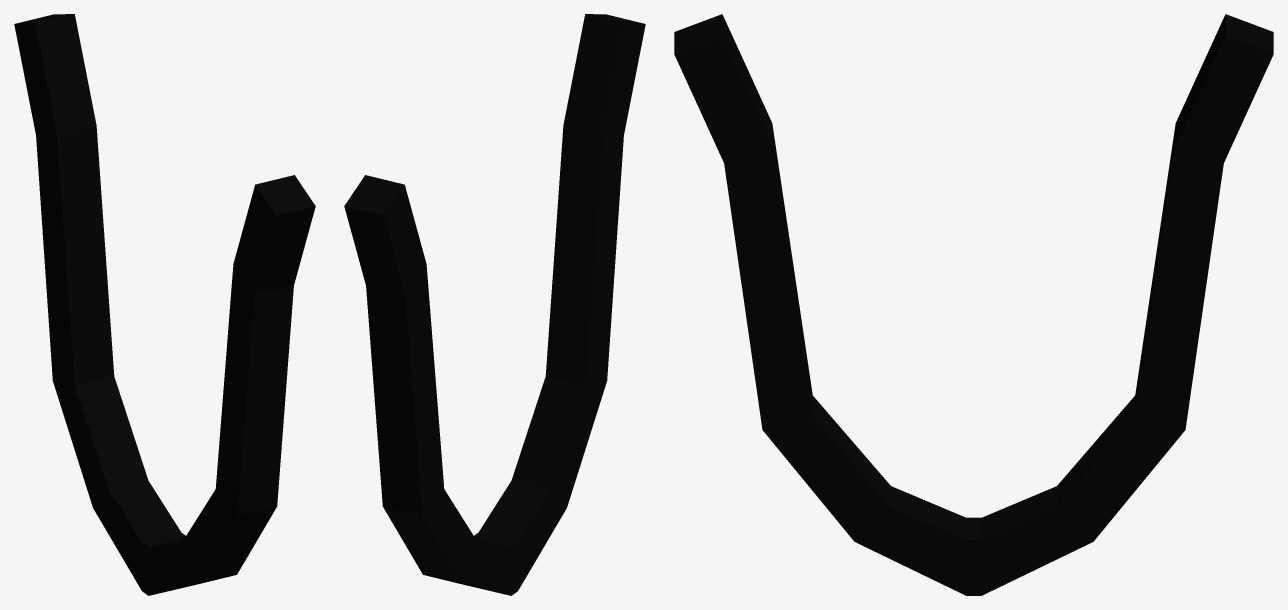
The model's file is cable_tilted.obj.
3 views of the same model, side by side, from view 1: azimuth 30°, elevation 25°; view 2: azimuth 150°, elevation 25°; view 3: azimuth 270°, elevation 25° (orthographic). The views are drawn at different scales.
Visible parts, largest first — view 1: mesh; view 2: mesh; view 3: mesh.
Boxes of the visible parts, bbox=[...] form: mesh: bbox=[14, 14, 315, 595]; mesh: bbox=[344, 14, 645, 595]; mesh: bbox=[674, 14, 1273, 595].
Size of the model in its own units: 0.025 by 0.296 by 0.2873.
